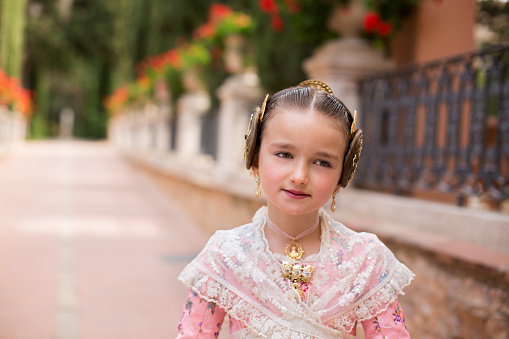em pe: (157, 63, 437, 339)
